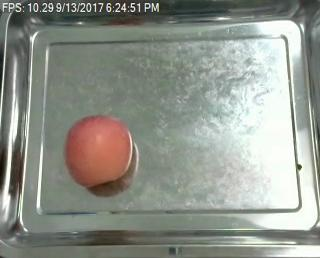apple: (65, 115, 132, 188)
